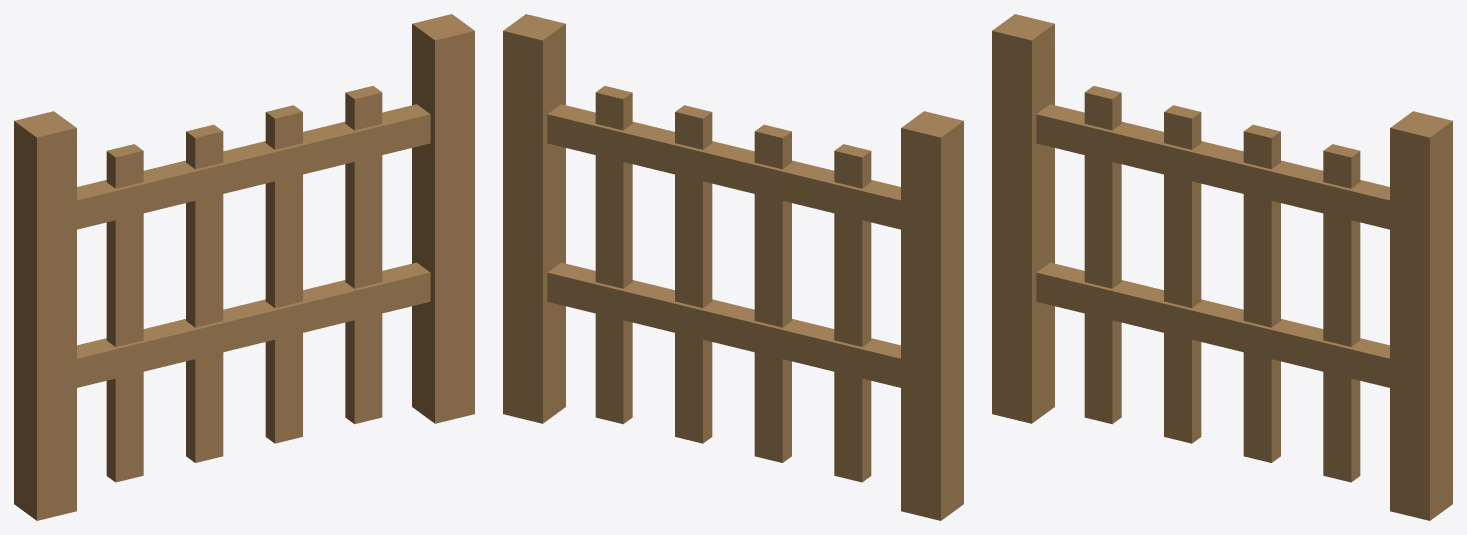
Rendered from xy_town_fence.glb.
3 views of the same model, side by side, from view 1: azimuth 30°, elevation 25°; view 2: azimuth 150°, elevation 25°; view 3: azimuth 330°, elevation 25° (orthographic).
Visible parts, largest first — view 1: xy_town_fence; view 2: xy_town_fence; view 3: xy_town_fence.
Boxes of the visible parts, x1,y1,x2,y2 form: xy_town_fence: (14, 14, 474, 520); xy_town_fence: (503, 14, 963, 520); xy_town_fence: (992, 14, 1452, 520).
Bounding box in the file's own units: 1.1 × 0.92 × 0.1.
